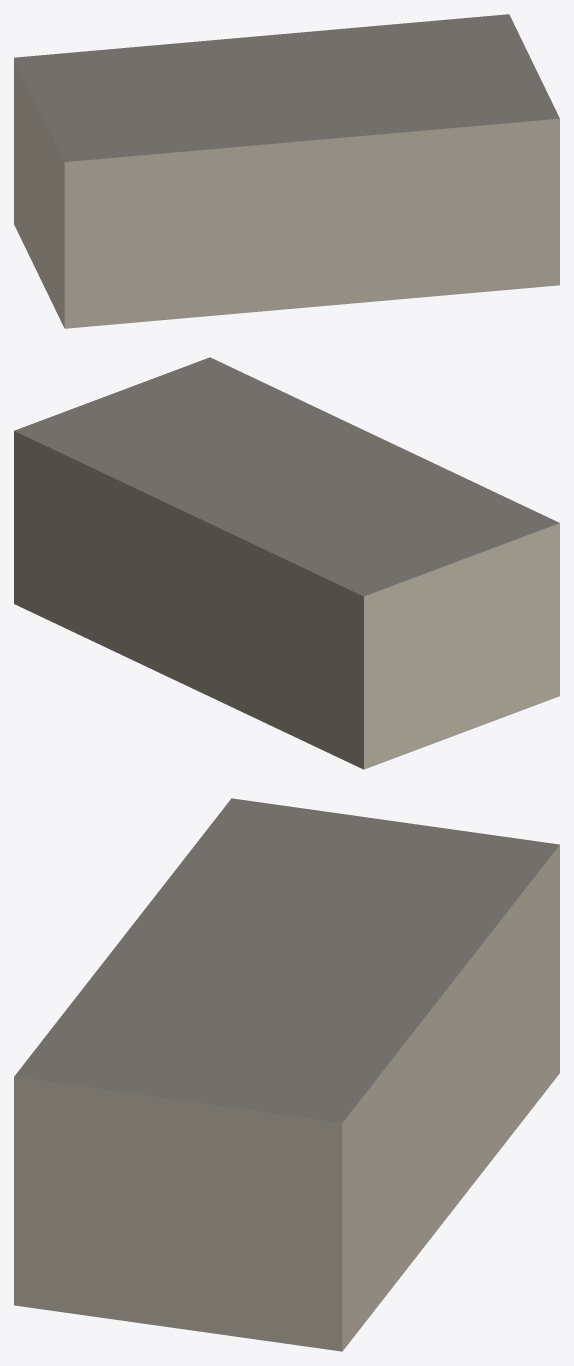
The picture shows the model from 3 angles, top to bottom: view 1: azimuth 30°, elevation 25°; view 2: azimuth 150°, elevation 25°; view 3: azimuth 270°, elevation 25°; orthographic projection. The views are drawn at different scales.
Visible parts, largest first — view 1: HP-w858839007; view 2: HP-w858839007; view 3: HP-w858839007.
Part boxes in pixels (left/top/right/bottom): HP-w858839007: left=14, top=14, right=559, bottom=328; HP-w858839007: left=14, top=357, right=559, bottom=769; HP-w858839007: left=14, top=798, right=559, bottom=1351.
Bounding box in the file's own units: 54.83 × 18 × 38.96.
